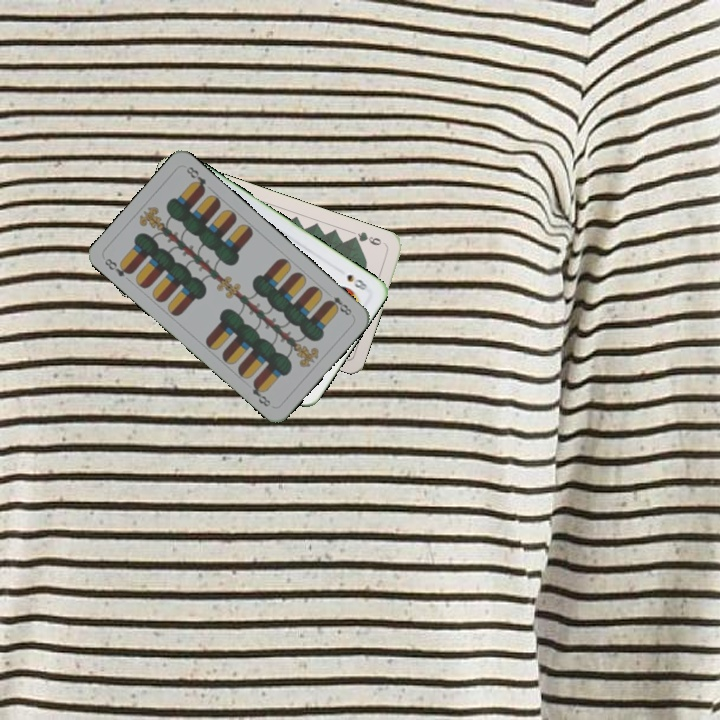E8: (322, 292, 356, 319), (100, 254, 135, 280)
G9: (347, 227, 388, 248)
S8: (343, 270, 370, 293)
